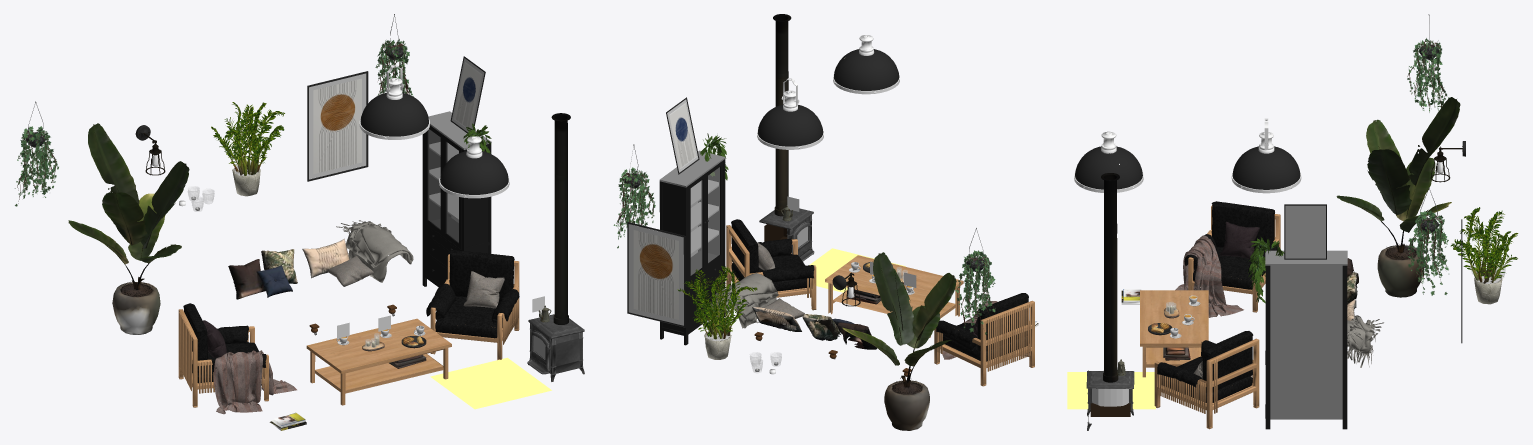
The model's file is last_furniture.glb.
3 views of the same model, side by side, from view 1: azimuth 30°, elevation 25°; view 2: azimuth 150°, elevation 25°; view 3: azimuth 270°, elevation 25° (orthographic). The views are drawn at different scales.
Visible parts, largest first — view 1: picture.002, Circle, Chocofur_Wood_13, Cube.2678, obj.010, Plane, obj.008, 725P12 Pendant Lamp.001, 725P12 Pendant Lamp, PlantZZ001, forget, obj.006 (+13 smaller); view 2: picture.002, Circle, obj.006, Cube.2678, 725P12 Pendant Lamp.001, obj.010, PlantZZ001, Chocofur_Wood_13, 725P12 Pendant Lamp, obj.007, plant.001, plant.000 (+9 smaller); view 3: picture.002, Circle, Chocofur_Wood_13, Cube.2678, obj.009, obj.007, obj.010, 725P12 Pendant Lamp.001, PlantZZ001, 725P12 Pendant Lamp, obj.008, plant.000 (+10 smaller).
Part boxes in pixels (left/top/right/bottom): picture.002: left=307, top=56, right=491, bottom=287; Circle: left=68, top=123, right=189, bottom=334; Chocofur_Wood_13: left=306, top=318, right=451, bottom=405; Cube.2678: left=527, top=113, right=584, bottom=381; obj.010: left=426, top=250, right=519, bottom=338; Plane: left=430, top=357, right=551, bottom=409; obj.008: left=213, top=350, right=296, bottom=414; 725P12 Pendant Lamp.001: left=359, top=64, right=429, bottom=139; 725P12 Pendant Lamp: left=439, top=136, right=509, bottom=198; PlantZZ001: left=211, top=102, right=284, bottom=175; forget: left=336, top=220, right=413, bottom=282; obj.006: left=178, top=309, right=268, bottom=407; picture.002: left=627, top=97, right=725, bottom=345; Circle: left=842, top=252, right=956, bottom=430; obj.006: left=934, top=300, right=1034, bottom=386; Cube.2678: left=759, top=14, right=814, bottom=261; 725P12 Pendant Lamp.001: left=757, top=78, right=823, bottom=149; obj.010: left=731, top=219, right=814, bottom=291; PlantZZ001: left=677, top=265, right=757, bottom=339; Chocofur_Wood_13: left=825, top=255, right=963, bottom=337; 725P12 Pendant Lamp: left=833, top=35, right=899, bottom=94; obj.007: left=936, top=293, right=1028, bottom=361; plant.001: left=955, top=228, right=995, bottom=334; plant.000: left=613, top=144, right=655, bottom=248; picture.002: left=1265, top=204, right=1462, bottom=429; Circle: left=1336, top=97, right=1460, bottom=297; Chocofur_Wood_13: left=1140, top=290, right=1208, bottom=377; Cube.2678: left=1086, top=173, right=1134, bottom=430; obj.009: left=1154, top=338, right=1259, bottom=429; obj.007: left=1184, top=201, right=1278, bottom=289; obj.010: left=1157, top=331, right=1253, bottom=402; 725P12 Pendant Lamp.001: left=1231, top=118, right=1301, bottom=193; PlantZZ001: left=1450, top=207, right=1518, bottom=283; 725P12 Pendant Lamp: left=1074, top=131, right=1143, bottom=192; obj.008: left=1175, top=235, right=1243, bottom=317; plant.000: left=1407, top=187, right=1448, bottom=295.
Bounding box in the file's own units: 4.79 × 3.08 × 4.79.
66 materials, 33 textured.
